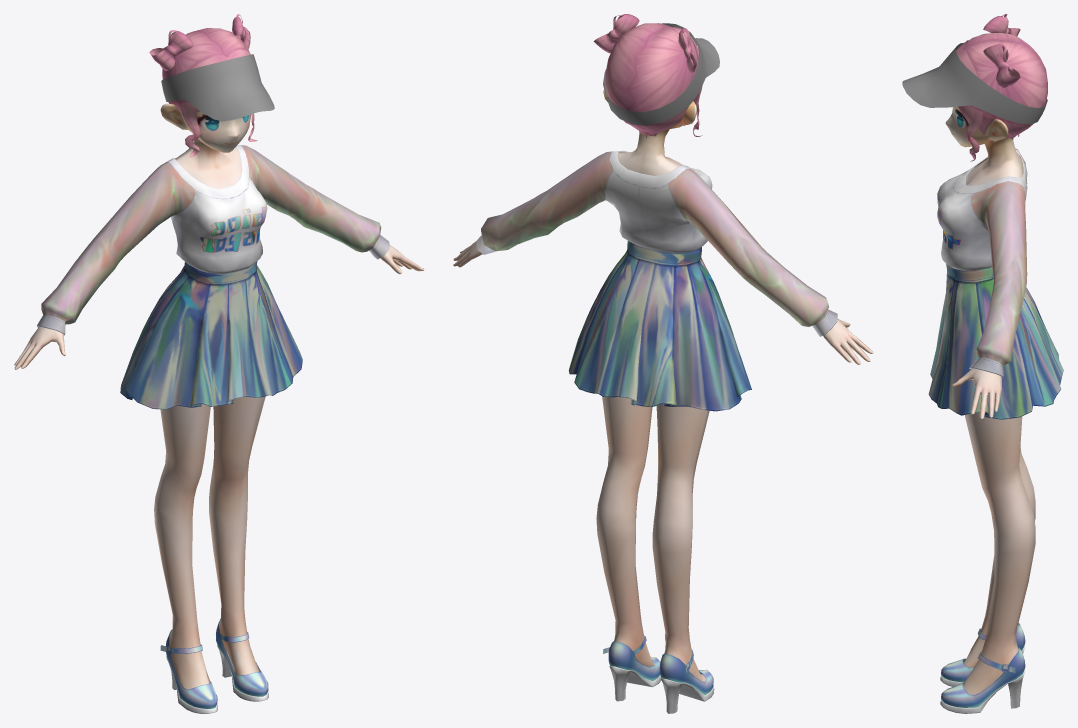
File: Girl_00701.FBX
3 views of the same model, side by side, from view 1: azimuth 30°, elevation 25°; view 2: azimuth 150°, elevation 25°; view 3: azimuth 270°, elevation 25° (orthographic). The views are drawn at different scales.
Parts seen in each view (by area): view 1: Bottom, Top, Hair, Shoe, Face; view 2: Bottom, Top, Hair, Shoe, Face; view 3: Bottom, Top, Hair, Shoe, Face.
Part boxes in pixels (left/top/right/bottom): Bottom: left=120, top=261, right=302, bottom=689; Top: left=14, top=140, right=424, bottom=369; Hair: left=149, top=14, right=274, bottom=157; Shoe: left=160, top=618, right=268, bottom=713; Face: left=160, top=103, right=251, bottom=152; Bottom: left=568, top=241, right=751, bottom=681; Top: left=453, top=141, right=873, bottom=364; Hair: left=593, top=14, right=719, bottom=138; Shoe: left=603, top=636, right=714, bottom=713; Face: left=603, top=89, right=696, bottom=146; Bottom: left=928, top=264, right=1063, bottom=694; Top: left=937, top=146, right=1027, bottom=419; Hair: left=902, top=14, right=1047, bottom=161; Shoe: left=940, top=623, right=1025, bottom=713; Face: left=945, top=106, right=1014, bottom=154.
Bounding box in the file's own units: 2.28 × 0.7839 × 3.55.
Materials: 6 (5 with a texture image).
